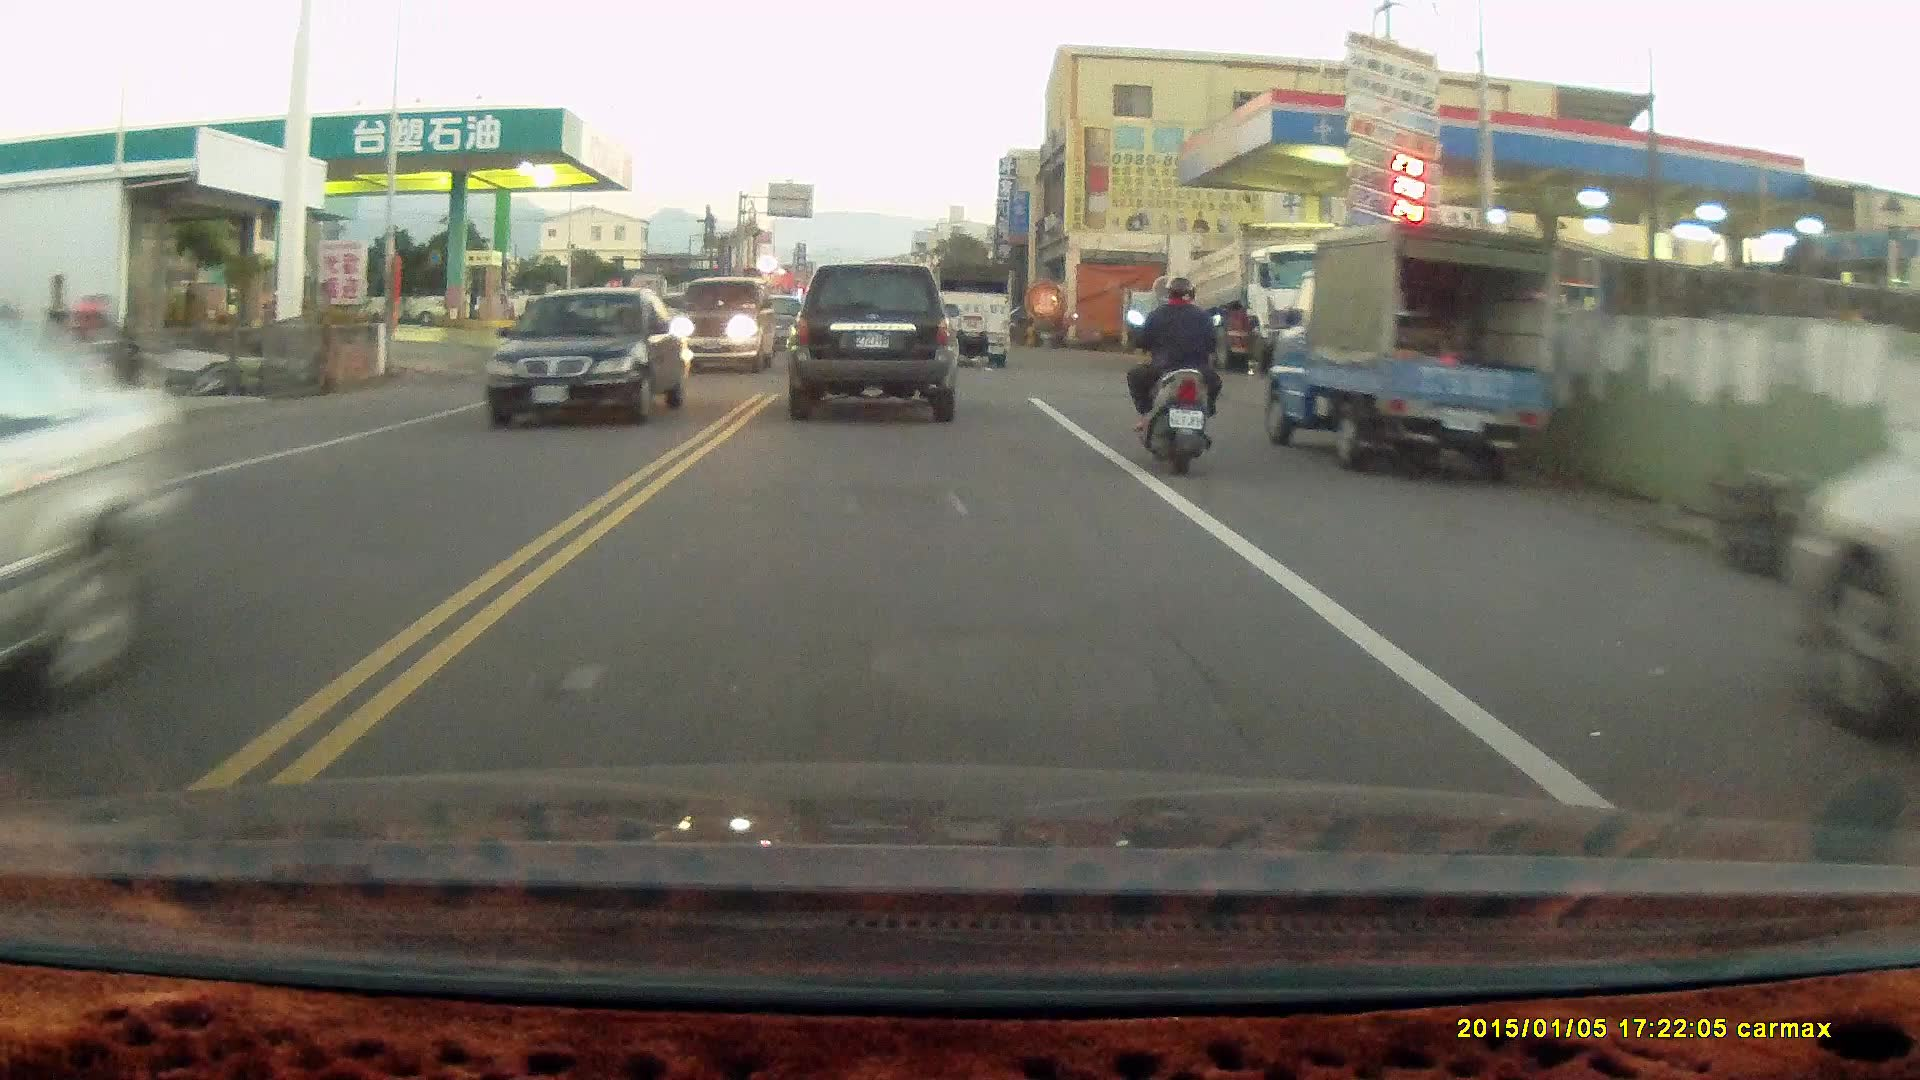rider: (1127, 277, 1227, 478)
vehicle: (1266, 222, 1571, 472), (1783, 425, 1920, 753), (487, 288, 698, 427), (788, 260, 958, 417), (668, 275, 781, 379), (920, 252, 1016, 364)
